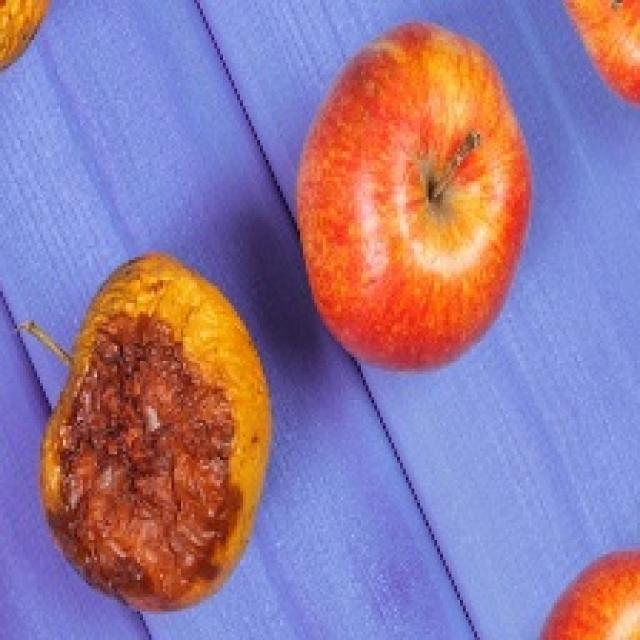rotten_apple: (46, 259, 271, 607)
